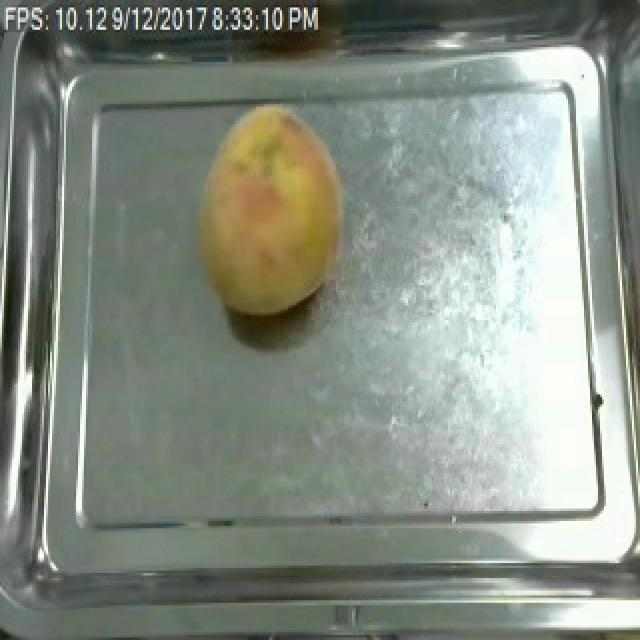Fruit: (186, 104, 356, 323)
